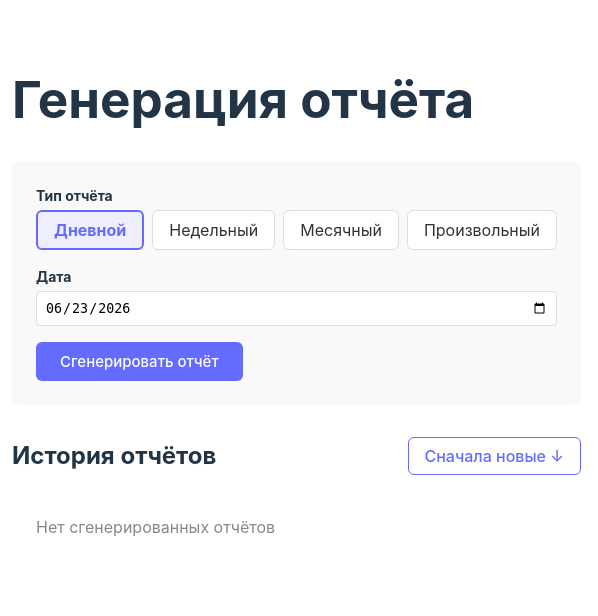
Test case: ReportPage — LLM config error handling › shows llm config error inline when backend returns 422 with violations
The width and height of the screenshot is (598, 616).
Click the button "Сгенерировать отчёт". click: {"x": 139, "y": 362}
box: left=36, top=342, right=243, bottom=382
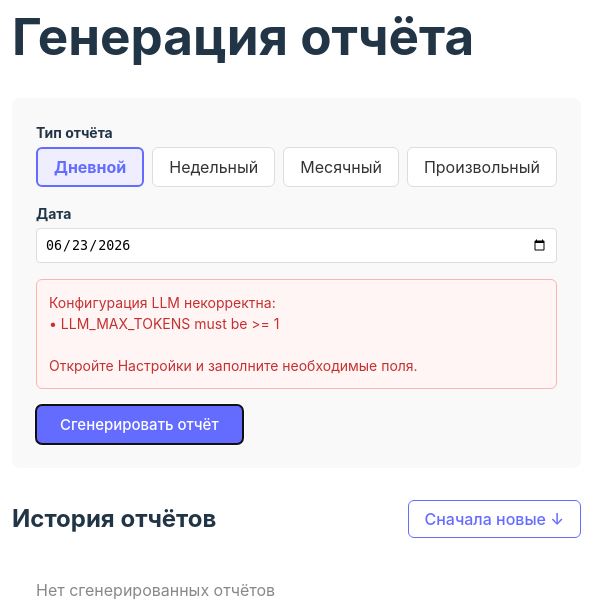
Expected: the text "LLM_MAX_TOKENS" is shown, left=49, top=294, right=418, bottom=374
